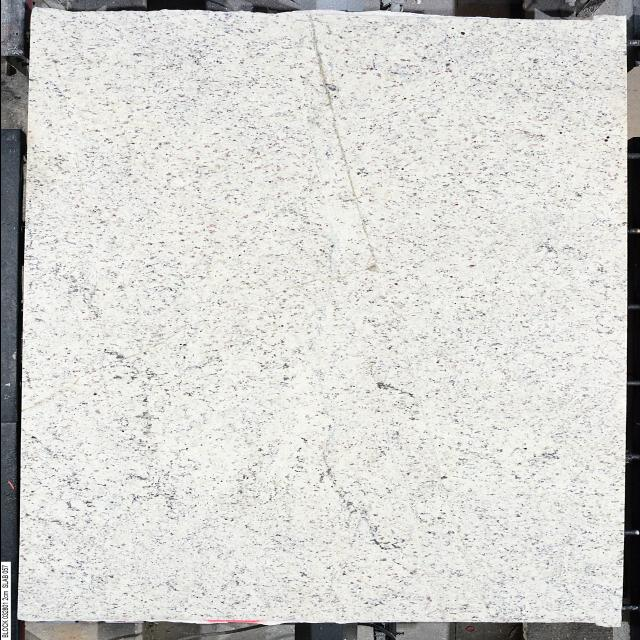chapa: (17, 9, 626, 626)
